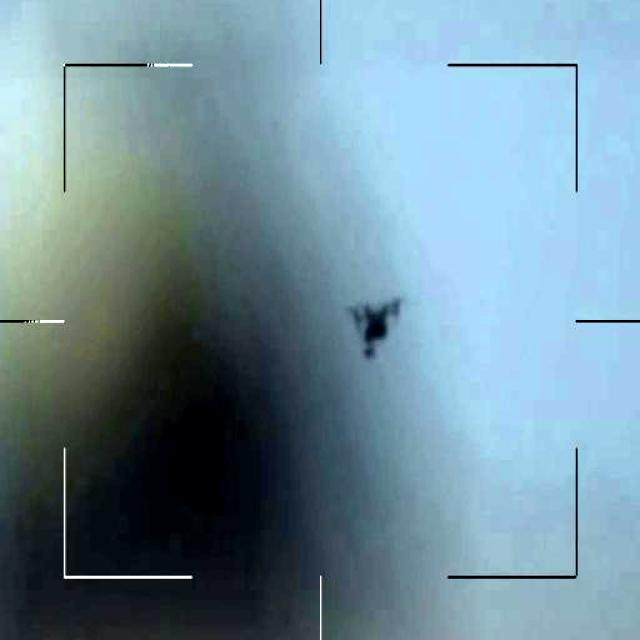bird: (342, 290, 412, 359)
